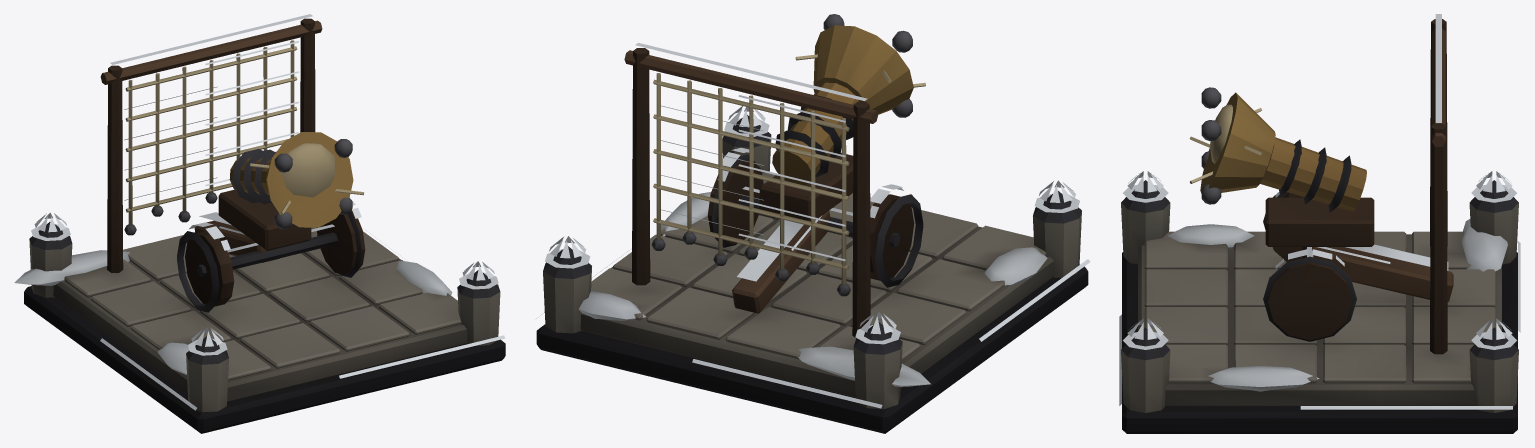
File: alliance-2.glb
The picture shows the model from 3 angles, left to right: view 1: azimuth 30°, elevation 25°; view 2: azimuth 150°, elevation 25°; view 3: azimuth 270°, elevation 25°; orthographic projection. The views are drawn at different scales.
Visible parts, largest first — view 1: aubeval_2_architecture, Tourelle_peint; view 2: aubeval_2_architecture, Tourelle_peint; view 3: aubeval_2_architecture, Tourelle_peint.
Boxes of the visible parts, left/top/right/bottom form: aubeval_2_architecture: left=14, top=14, right=505, bottom=433; Tourelle_peint: left=218, top=132, right=363, bottom=250; aubeval_2_architecture: left=536, top=42, right=1090, bottom=433; Tourelle_peint: left=759, top=14, right=925, bottom=221; aubeval_2_architecture: left=1119, top=14, right=1520, bottom=433; Tourelle_peint: left=1189, top=87, right=1374, bottom=246.
Size of the model in its own units: 0.8655 by 0.6329 by 0.811.
